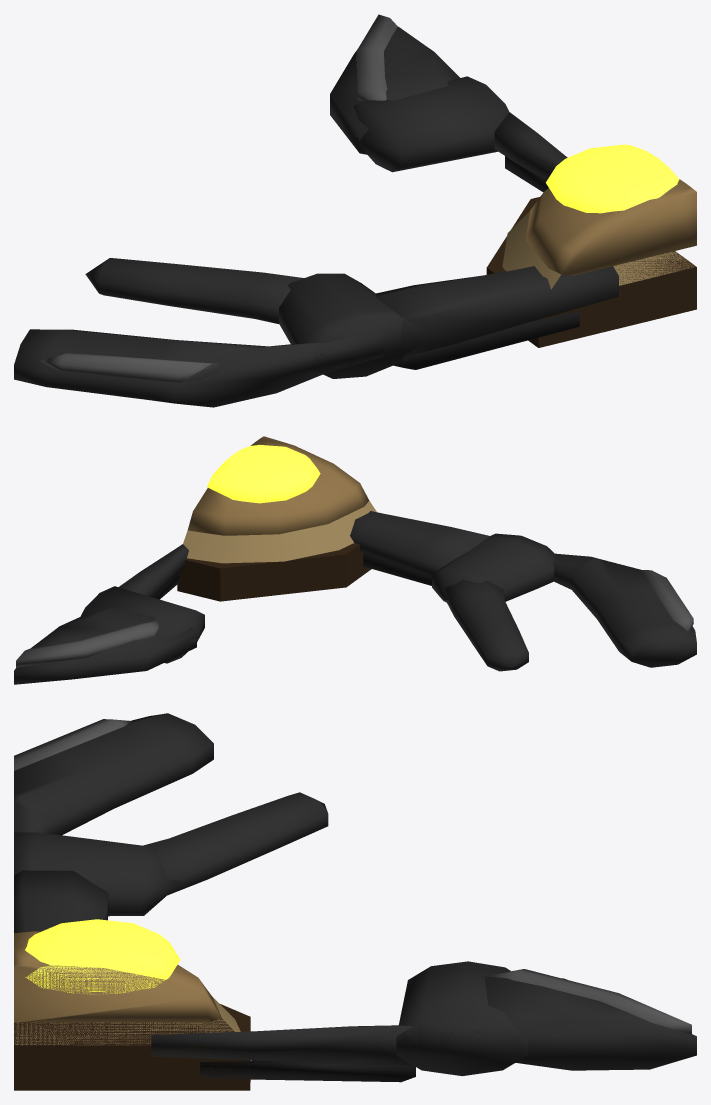
File: newsh-hash-1-f6.glb
3 renders of one model, top to bottom at view 1: azimuth 30°, elevation 25°; view 2: azimuth 150°, elevation 25°; view 3: azimuth 270°, elevation 25°, orthographic. The views are drawn at different scales.
Parts seen in each view (by area): view 1: newsh-hash-1-f6; view 2: newsh-hash-1-f6; view 3: newsh-hash-1-f6.
Boxes of the visible parts, x1,y1,x2,y2 form: newsh-hash-1-f6: [14, 14, 696, 407]; newsh-hash-1-f6: [14, 436, 696, 684]; newsh-hash-1-f6: [14, 713, 696, 1090].
Bounding box in the file's own units: 1.52 × 0.295 × 1.37.
